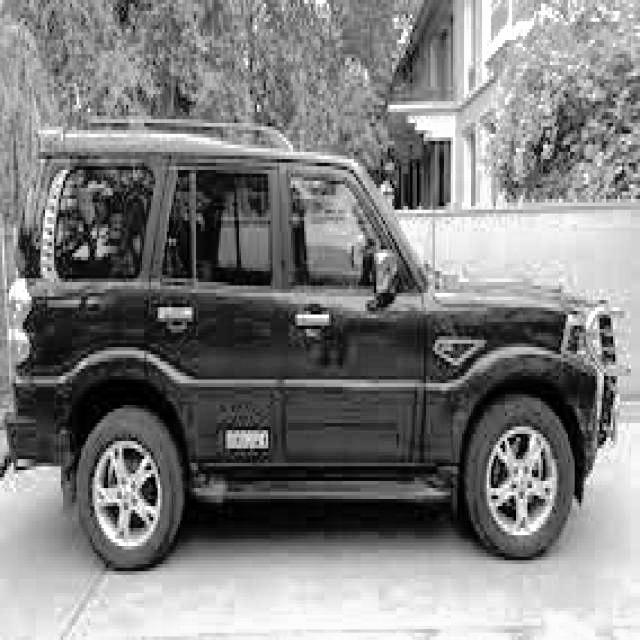Car: (4, 119, 640, 559)
